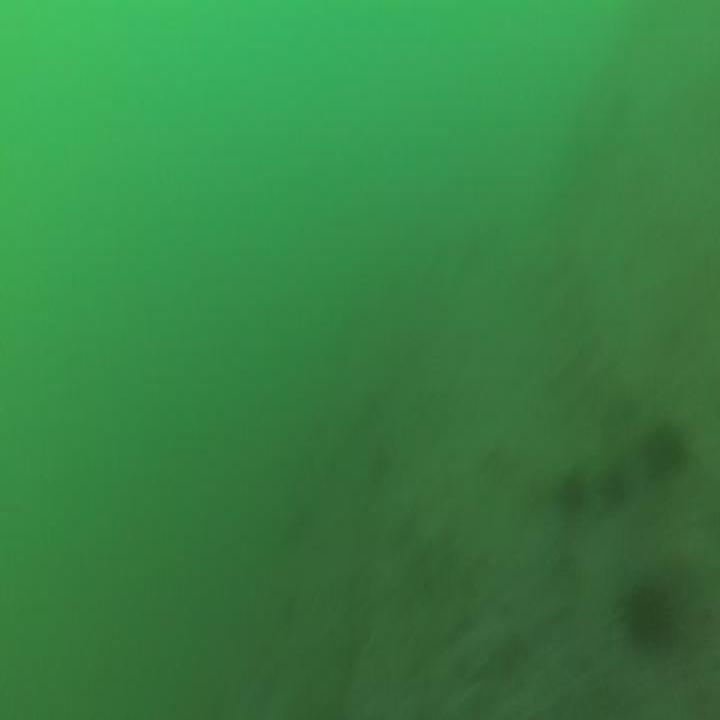echinus: (624, 572, 672, 656), (642, 414, 688, 482), (557, 464, 588, 521), (600, 462, 630, 514)
